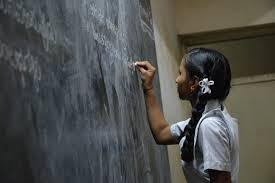Human: (133, 40, 251, 183)
